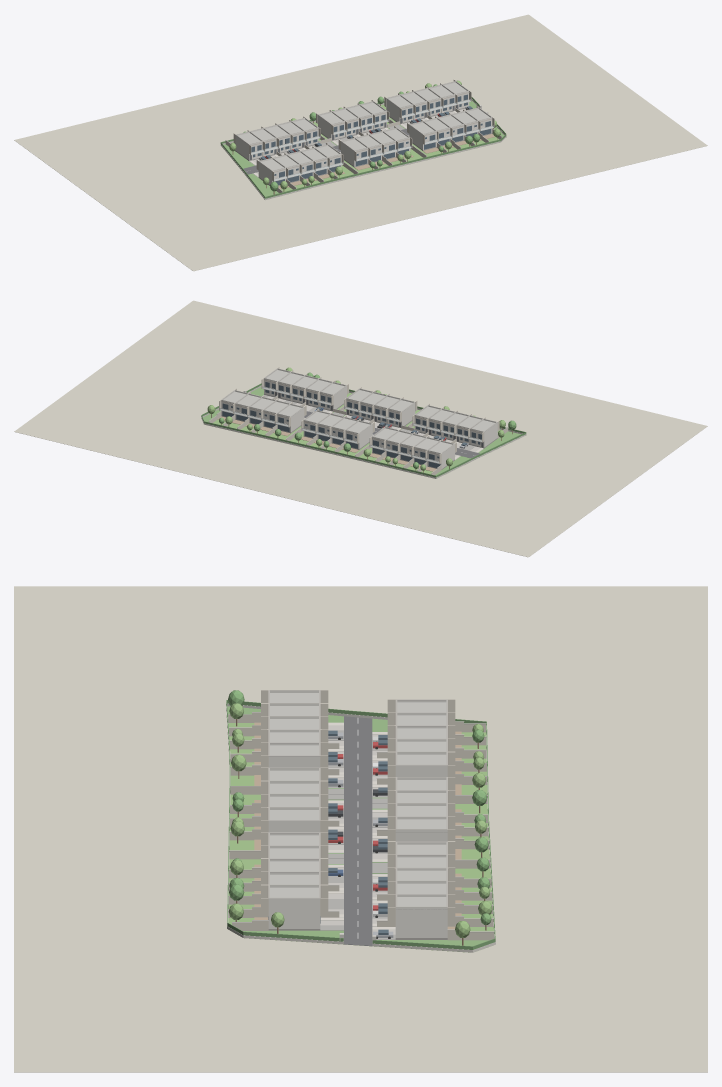
3 views of the same model, one above another, from view 1: azimuth 30°, elevation 25°; view 2: azimuth 150°, elevation 25°; view 3: azimuth 270°, elevation 25° (orthographic). The views are drawn at different scales.
Parts seen in each view (by area): view 1: zemin__zemin, villa__duvar, villa__cakil, villa__cam, villa__harpusta, villa__perde, villa__duvar2, villa__korkuluk, peyzaj__cit, peyzaj__cim, peyzaj__perde, peyzaj__bahce_duv (+4 smaller); view 2: zemin__zemin, villa__duvar, villa__cakil, villa__cam, villa__harpusta, villa__perde, villa__duvar2, villa__korkuluk, peyzaj__cit, peyzaj__perde, peyzaj__cim, peyzaj__bahce_duv (+5 smaller); view 3: zemin__zemin, villa__cakil, villa__duvar, peyzaj__perde, villa__perde, yol__asfalt, villa__harpusta, peyzaj__cim, agac__yaprak2, peyzaj__cit, peyzaj__park, agac__yaprak (+8 smaller).
Boxes of the visible parts, x1,y1,x2,y2 form: zemin__zemin: (14, 14, 707, 271); villa__duvar: (235, 81, 493, 184); villa__cakil: (238, 82, 489, 170); villa__cam: (250, 94, 491, 184); villa__harpusta: (236, 81, 491, 170); villa__perde: (233, 79, 494, 181); villa__duvar2: (249, 92, 491, 181); villa__korkuluk: (251, 99, 493, 180); peyzaj__cit: (220, 97, 506, 198); peyzaj__cim: (232, 104, 506, 192); peyzaj__perde: (225, 109, 501, 192); peyzaj__bahce_duv: (220, 99, 506, 200); zemin__zemin: (14, 300, 707, 557); villa__duvar: (219, 369, 497, 468); villa__cakil: (224, 370, 494, 452); villa__cam: (222, 382, 482, 467); villa__harpusta: (221, 368, 497, 453); villa__perde: (219, 367, 499, 464); villa__duvar2: (221, 374, 483, 465); villa__korkuluk: (219, 386, 481, 463); peyzaj__cit: (201, 383, 526, 477); peyzaj__perde: (209, 396, 508, 475); peyzaj__cim: (213, 392, 501, 474); peyzaj__bahce_duv: (201, 385, 526, 478); zemin__zemin: (14, 586, 707, 1072); villa__cakil: (270, 693, 447, 909); villa__duvar: (268, 691, 447, 937); peyzaj__perde: (228, 713, 494, 940); villa__perde: (261, 690, 455, 925); yol__asfalt: (344, 716, 372, 946); villa__harpusta: (268, 690, 447, 907); peyzaj__cim: (228, 723, 493, 952); agac__yaprak2: (228, 703, 492, 937); peyzaj__cit: (226, 700, 495, 949); peyzaj__park: (320, 730, 395, 939); agac__yaprak: (228, 690, 491, 924).
Bounding box in the file's own units: 244 × 7.75 × 147.
